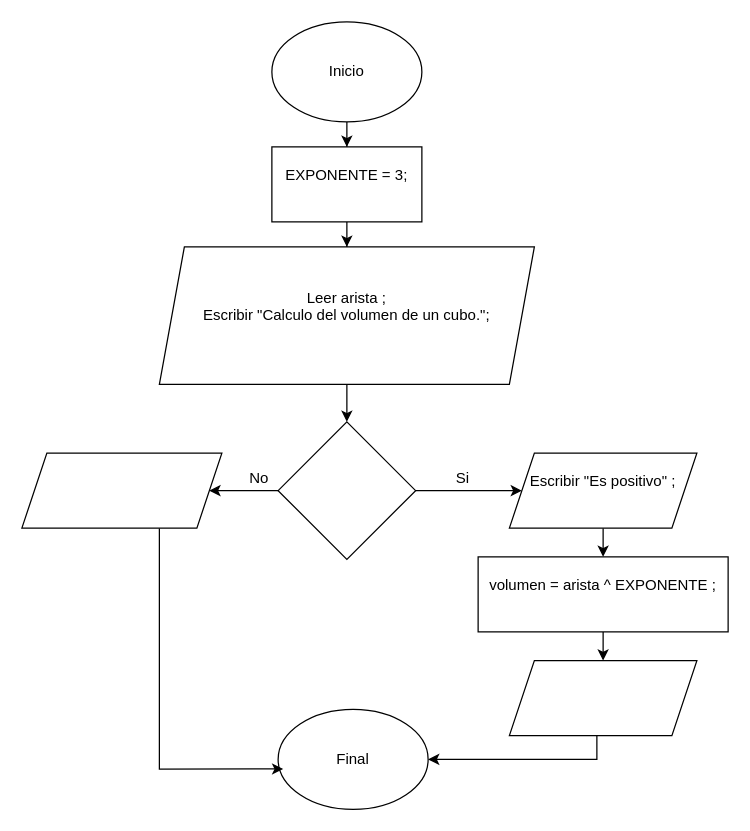
Some shapes in this 750 by 831 pixel diagram are drawn without their labels. The shapes that lost their labels are listed below. From the top down, each one's centre as x and y in pixels, then its label:
(121,490): Escribir "Es negativo"
(346,490): ¿arista>0?
(602,697): Escribir "El volumen es: " + volumen ;
